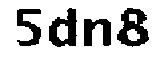5: (12, 7, 45, 49)
8: (116, 5, 150, 50)
d: (46, 6, 82, 52)
n: (83, 16, 112, 51)
